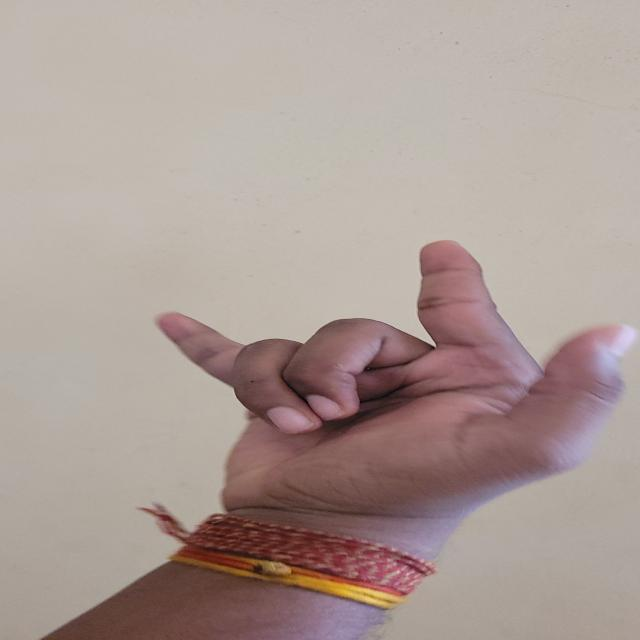i like you: (104, 224, 640, 551)
